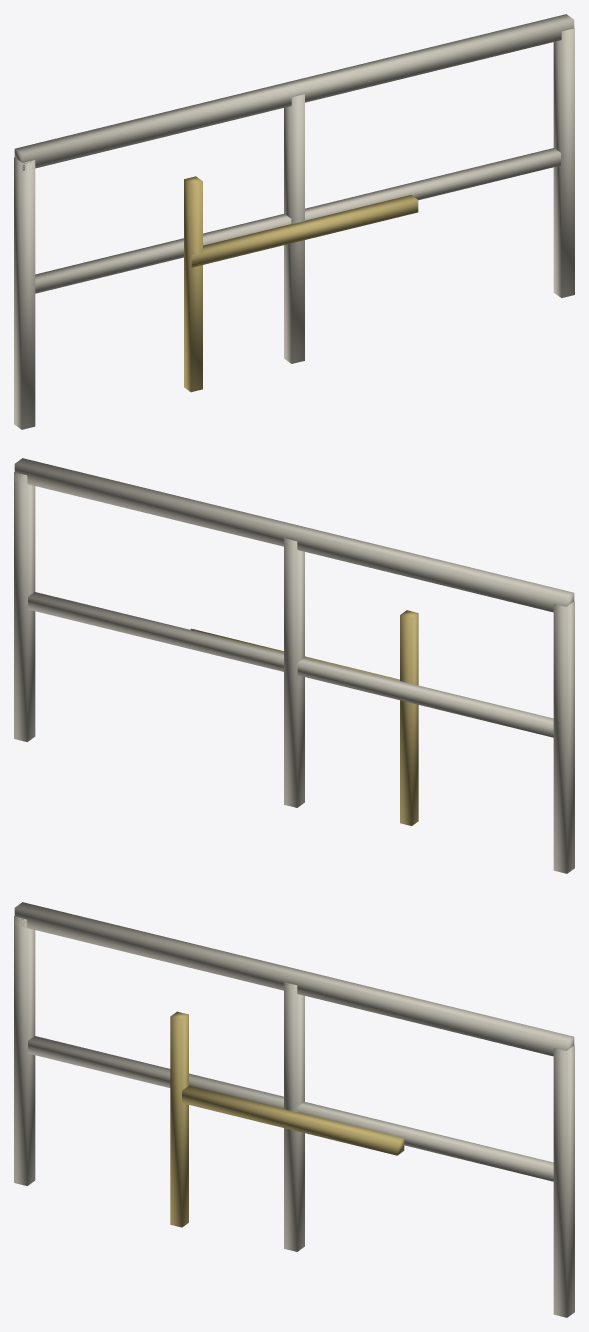
File: civic_gate_l180_h85.glb
The picture shows the model from 3 angles, top to bottom: view 1: azimuth 30°, elevation 25°; view 2: azimuth 150°, elevation 25°; view 3: azimuth 330°, elevation 25°; orthographic projection.
Visible parts, largest first — view 1: world; view 2: world; view 3: world.
Part boxes in pixels (left/top/right/bottom): world: left=14, top=14, right=574, bottom=429; world: left=14, top=458, right=574, bottom=873; world: left=14, top=902, right=574, bottom=1317.
Size of the model in its own units: 1.85 by 0.8775 by 0.0825.
